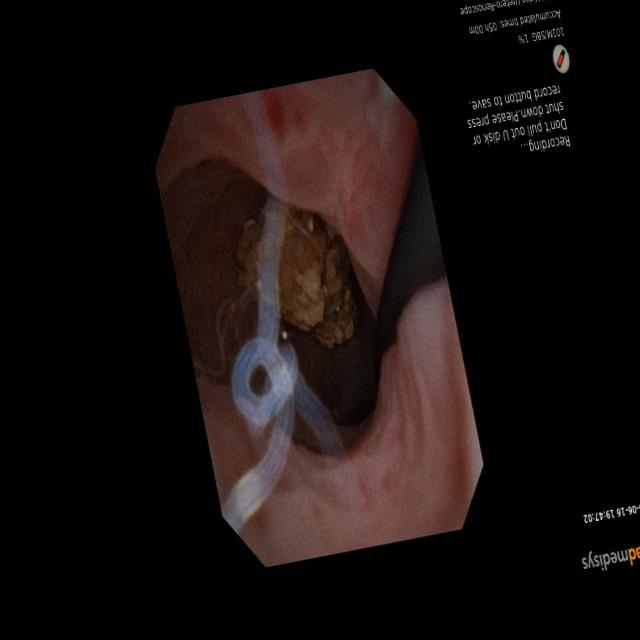stone-new: (279, 206, 357, 349), (237, 221, 259, 285)
